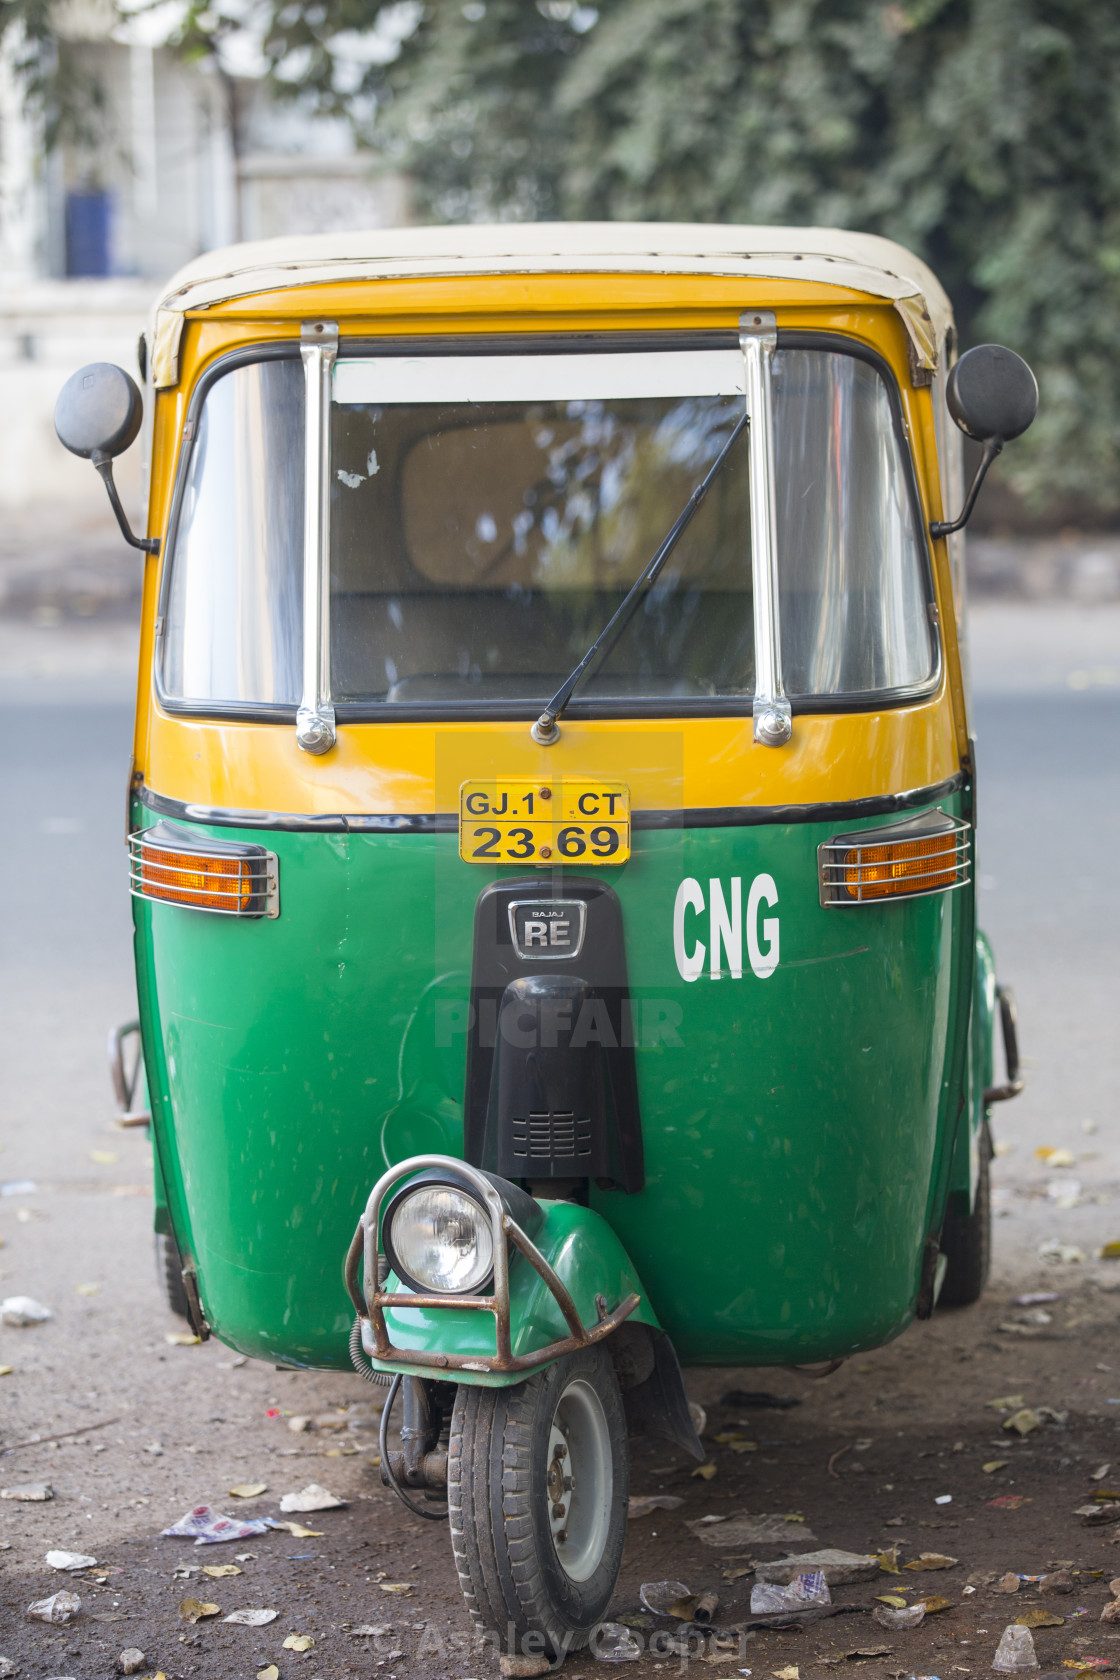doublelinenumberplate: (455, 776, 642, 873)
